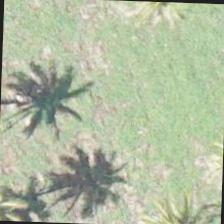Kelapa_Sawit: (135, 178, 222, 223)
